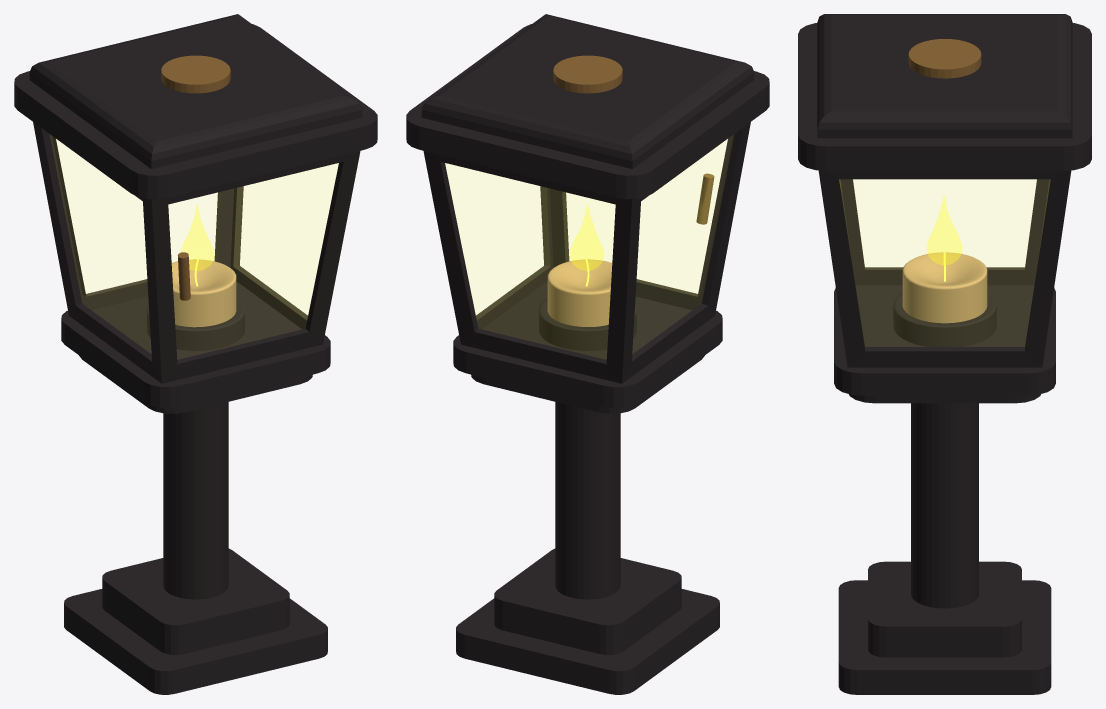
File: lamp with candle(free).fbx
The picture shows the model from 3 angles, left to right: view 1: azimuth 30°, elevation 25°; view 2: azimuth 150°, elevation 25°; view 3: azimuth 270°, elevation 25°; orthographic projection. The views are drawn at different scales.
Parts seen in each view (by area): view 1: lamp, candle, candlestick, fire; view 2: lamp, candle, candlestick, fire; view 3: lamp, candle, candlestick, fire.
Boxes of the visible parts, left/top/right/bottom form: lamp: left=14, top=14, right=377, bottom=694; candle: left=171, top=259, right=236, bottom=327; candlestick: left=147, top=298, right=244, bottom=350; fire: left=181, top=204, right=213, bottom=270; lamp: left=406, top=14, right=769, bottom=694; candle: left=547, top=259, right=612, bottom=326; candlestick: left=539, top=298, right=636, bottom=350; fire: left=570, top=204, right=603, bottom=270; lamp: left=798, top=14, right=1091, bottom=694; candle: left=902, top=252, right=987, bottom=323; candlestick: left=893, top=293, right=996, bottom=346; fire: left=927, top=195, right=961, bottom=265.
Bounding box in the file's own units: 86.5 × 194 × 86.5.
